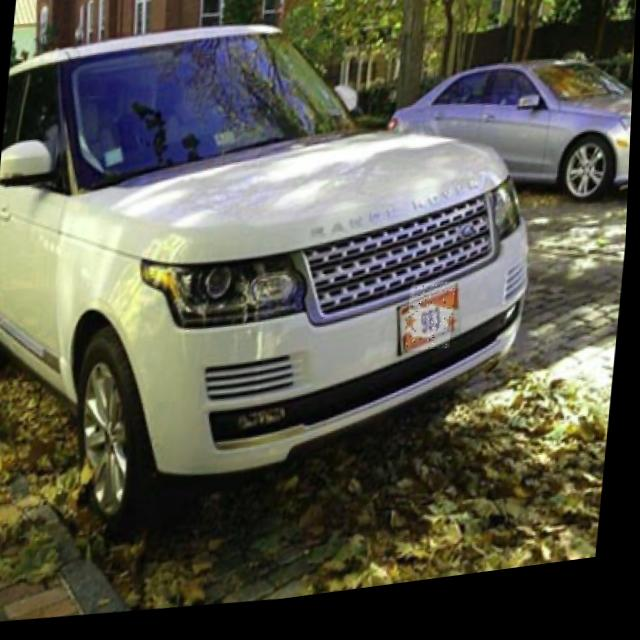license_plate: (409, 292, 459, 365)
